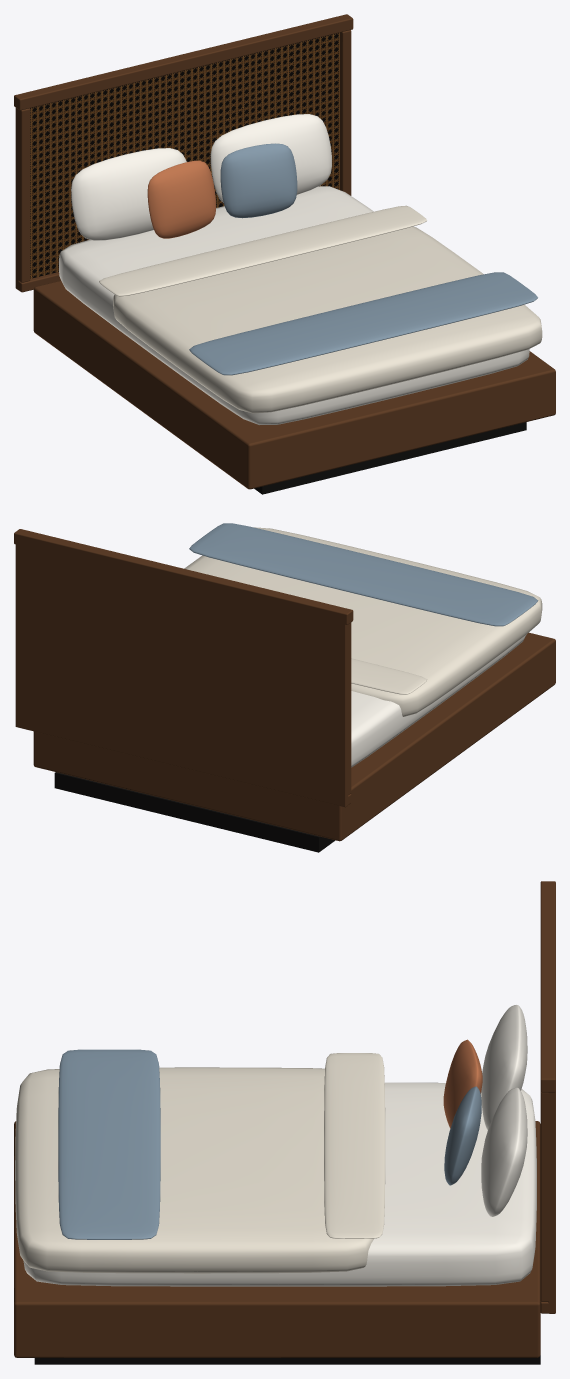
Rendered from cama.glb.
3 views of the same model, one above another, from view 1: azimuth 30°, elevation 25°; view 2: azimuth 150°, elevation 25°; view 3: azimuth 270°, elevation 25° (orthographic). The views are drawn at different scales.
Parts seen in each view (by area): view 1: edredom, cama_base, cab_palhinha, colchao, manta, edredom_dobra, travesseiro, cab_topo, travesseiro.001, almofada.001, almofada, cab_lado (+2 smaller); view 2: cab_fundo, cama_base, edredom, manta, cama_rodape, cab_topo, colchao, cab_base, cab_lado, edredom_dobra; view 3: edredom, cama_base, colchao, manta, edredom_dobra, travesseiro.001, travesseiro, cama_rodape, cab_topo, cab_lado.001, almofada.001, almofada (+1 smaller).
Part boxes in pixels (box(x1,y1,x2,y2)): edredom: box(113, 226, 542, 413); cama_base: box(33, 281, 555, 489); cab_palhinha: box(30, 32, 339, 278); colchao: box(59, 186, 529, 424); manta: box(189, 272, 537, 375); edredom_dobra: box(99, 205, 426, 296); travesseiro: box(71, 148, 186, 240); cab_topo: box(14, 14, 353, 110); travesseiro.001: box(210, 114, 331, 202); almofada.001: box(220, 143, 297, 218); almofada: box(147, 160, 216, 238); cab_lado: box(16, 108, 30, 282); cab_fundo: box(15, 536, 348, 807); cama_base: box(33, 632, 555, 841); edredom: box(184, 527, 542, 716); manta: box(189, 523, 538, 626); cama_rodape: box(54, 772, 335, 852); cab_topo: box(14, 529, 353, 624); colchao: box(351, 635, 526, 767); cab_base: box(16, 719, 351, 805); cab_lado: box(337, 622, 351, 796); edredom_dobra: box(351, 658, 427, 694); edredom: box(15, 1067, 373, 1273); cama_base: box(14, 1121, 540, 1357); colchao: box(23, 1082, 536, 1286); manta: box(58, 1049, 160, 1239); edredom_dobra: box(324, 1053, 385, 1238); travesseiro.001: box(481, 1087, 527, 1216); travesseiro: box(481, 1005, 527, 1129); cama_rodape: box(34, 1355, 540, 1364); cab_topo: box(540, 881, 555, 1092); cab_lado.001: box(540, 1092, 554, 1301); almofada.001: box(444, 1086, 481, 1185); almofada: box(443, 1039, 482, 1128).
Bounding box in the file's own units: 1.82 × 1.31 × 2.1.
Materials: 7 (1 with a texture image).
